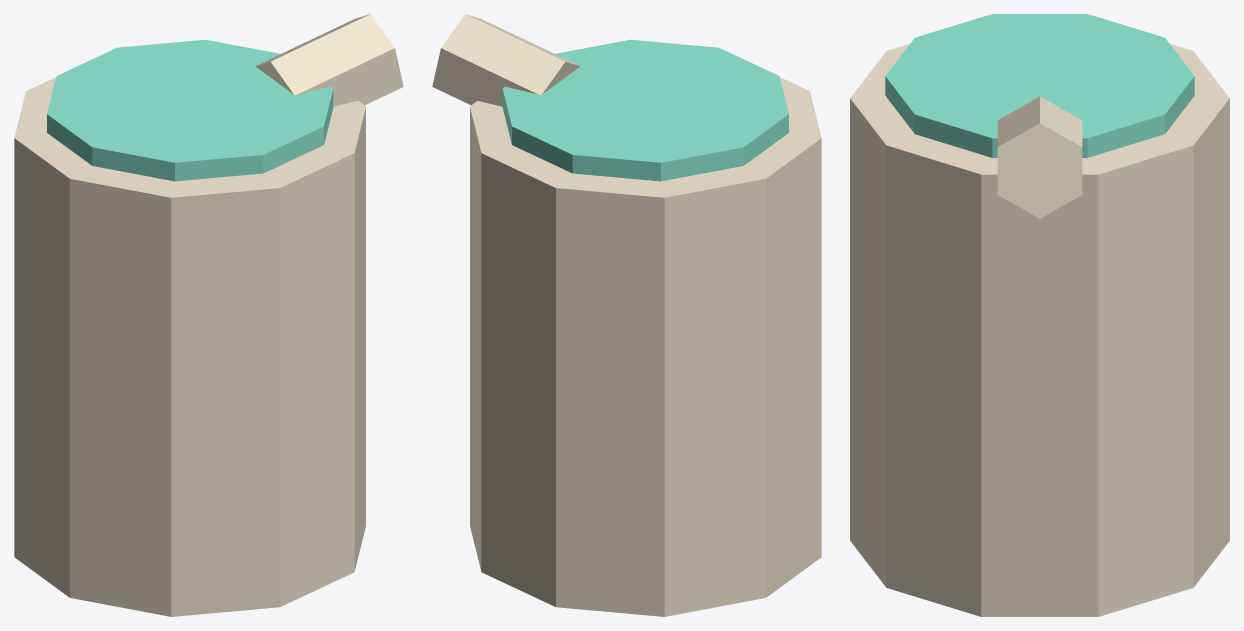
3 renders of one model, left to right at view 1: azimuth 30°, elevation 25°; view 2: azimuth 150°, elevation 25°; view 3: azimuth 270°, elevation 25°, orthographic. The views are drawn at different scales.
Parts seen in each view (by area): view 1: Beaker, Liquid, Spout; view 2: Beaker, Liquid, Spout; view 3: Beaker, Liquid, Spout.
Part boxes in pixels (bbox=[...]): Beaker: bbox=[14, 77, 365, 616]; Liquid: bbox=[47, 39, 333, 181]; Spout: bbox=[255, 14, 403, 106]; Beaker: bbox=[470, 77, 821, 616]; Liquid: bbox=[502, 39, 788, 181]; Spout: bbox=[432, 14, 580, 106]; Beaker: bbox=[850, 44, 1229, 616]; Liquid: bbox=[885, 14, 1194, 157]; Spout: bbox=[997, 96, 1082, 218].
Size of the model in its own units: 0.1555 by 0.2076 by 0.14.
Materials: 1 (1 with a texture image).
